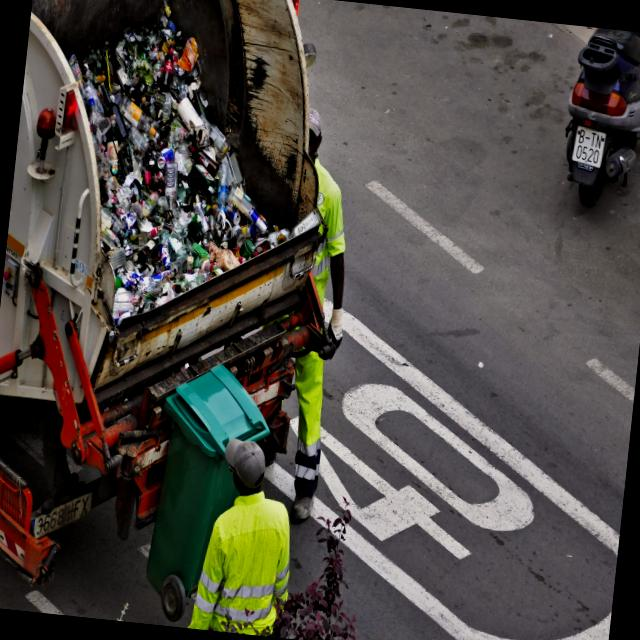garbage: (32, 6, 302, 328)
